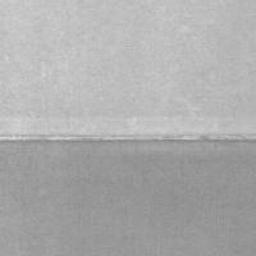Welding line: (0, 134, 256, 142)
